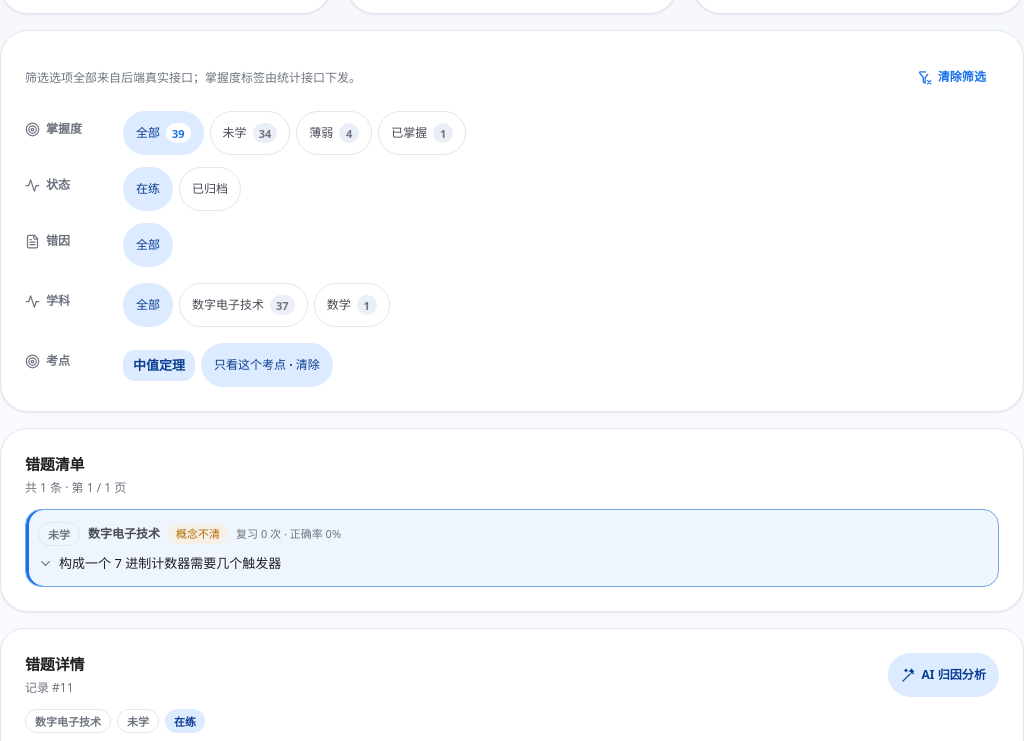
it: ErrorReview：学科来自 API、掌握度三态、知识点按实际链路 › 深链 ?kp_id= 按考点筛错题（D-10 联动错题本），清除后恢复全量
(page scrolled)
Check: the text "中值定理" is shown, box top-left (123, 350), bottom-right (195, 381)
Click the button "只看这个考点 · 清除". click: (267,365)
box: top-left (201, 343), bottom-right (333, 387)
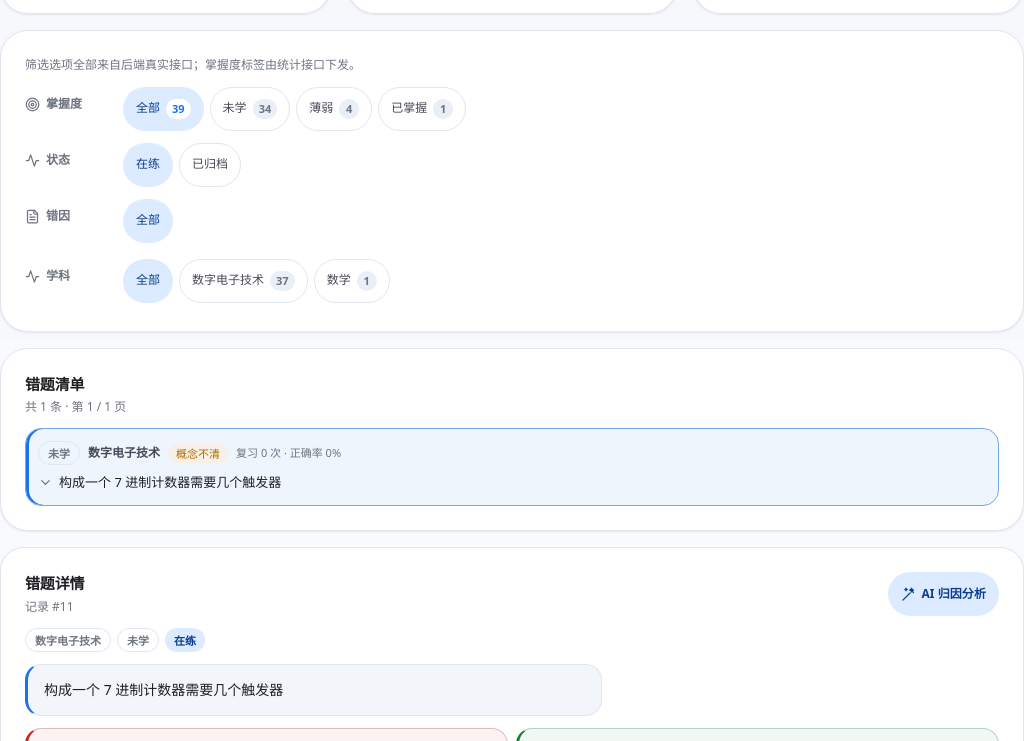
Check: the text "中值定理" is gone
